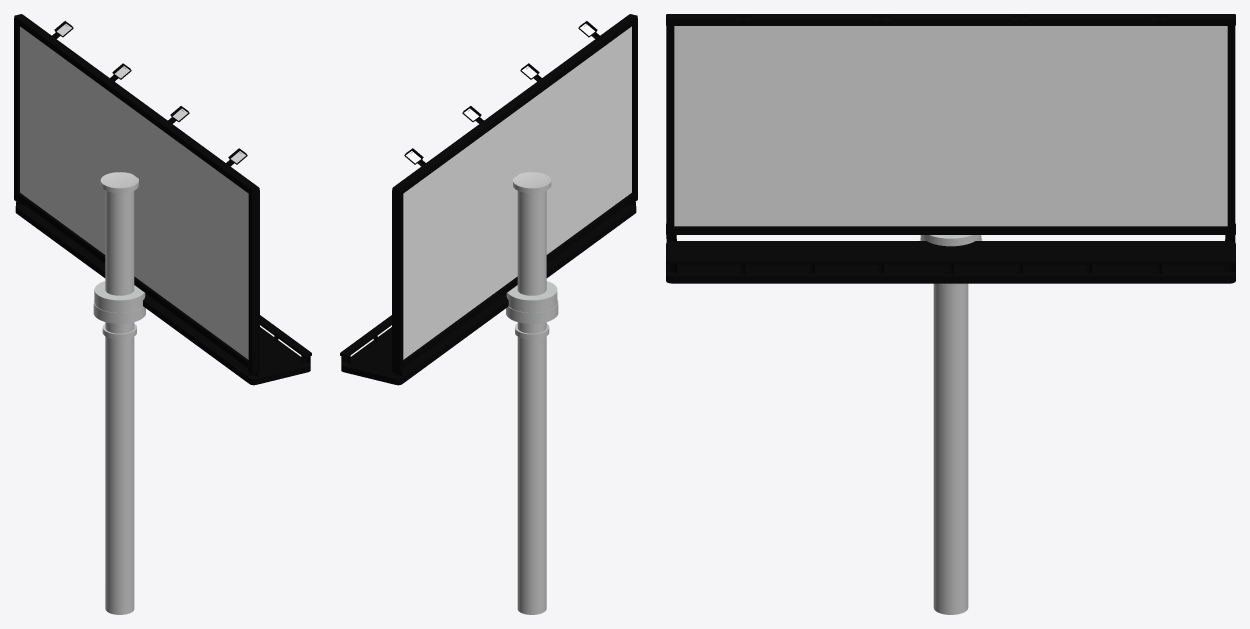
Rendered from billboard_1.glb.
The picture shows the model from 3 angles, left to right: view 1: azimuth 30°, elevation 25°; view 2: azimuth 150°, elevation 25°; view 3: azimuth 270°, elevation 25°; orthographic projection. The views are drawn at different scales.
Visible parts, largest first — view 1: Cube.005, Cube.001, Cylinder, Cube.009; view 2: Cube.005, Cube.001, Cylinder, Cube.009; view 3: Cube.005, Cube.001, Cylinder.
Part boxes in pixels (box(x1,y1,x2,y2)): Cube.005: box(20, 26, 248, 359); Cube.001: box(14, 14, 311, 385); Cylinder: box(93, 172, 145, 614); Cube.009: box(57, 23, 245, 163); Cube.005: box(403, 26, 631, 359); Cube.001: box(340, 14, 637, 385); Cylinder: box(506, 172, 558, 614); Cube.009: box(406, 23, 594, 163); Cube.005: box(674, 26, 1227, 226); Cube.001: box(666, 14, 1235, 283); Cylinder: box(919, 235, 982, 614).
Size of the model in its own units: 7.67 by 39.04 by 32.85.
Materials: 4 (4 with a texture image).
